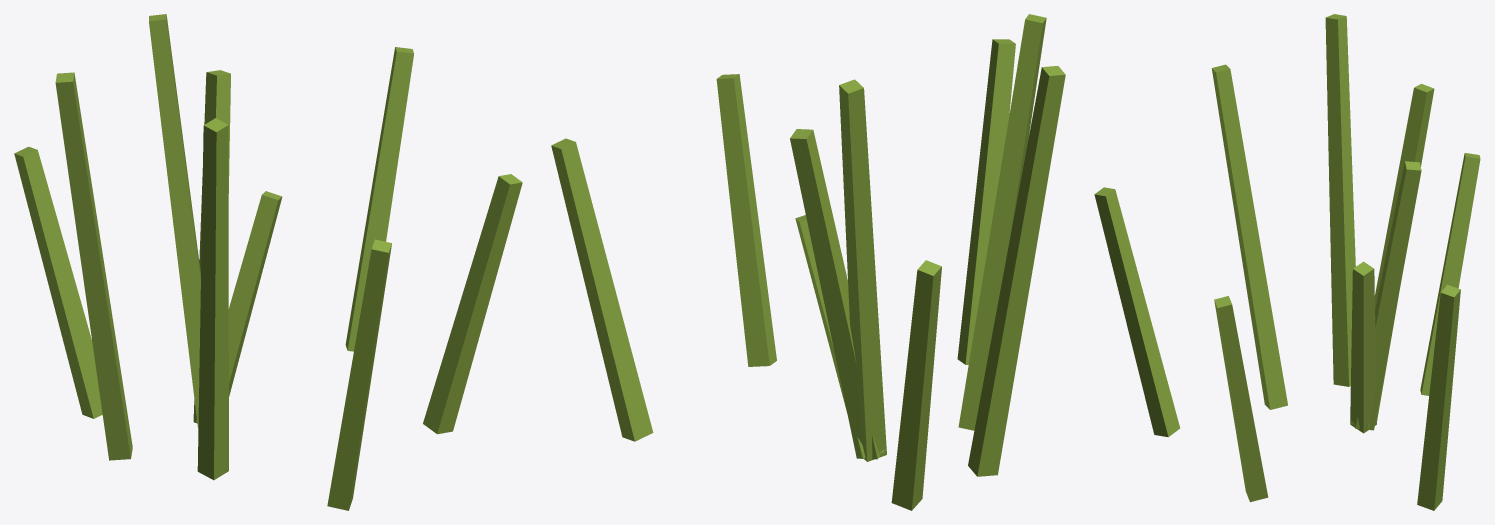
Rendered from grass.glb.
3 renders of one model, left to right at view 1: azimuth 30°, elevation 25°; view 2: azimuth 150°, elevation 25°; view 3: azimuth 270°, elevation 25°, orthographic. The views are drawn at different scales.
Visible parts, largest first — view 1: grass; view 2: grass; view 3: grass.
Part boxes in pixels (x1,y1,x2,y2): grass: (14, 14, 522, 510); grass: (551, 14, 1065, 510); grass: (1094, 14, 1480, 510).
Bounding box in the file's own units: 0.4732 × 0.4261 × 0.4311.
